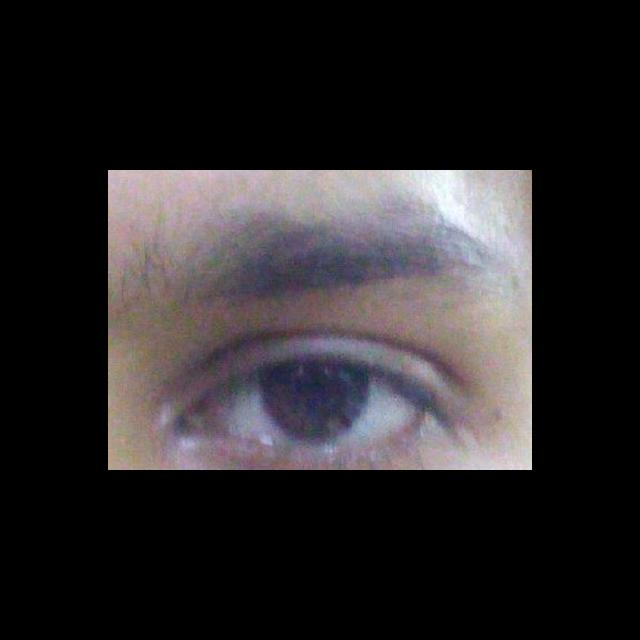eye: (214, 361, 416, 451)
iris: (260, 364, 370, 441)
